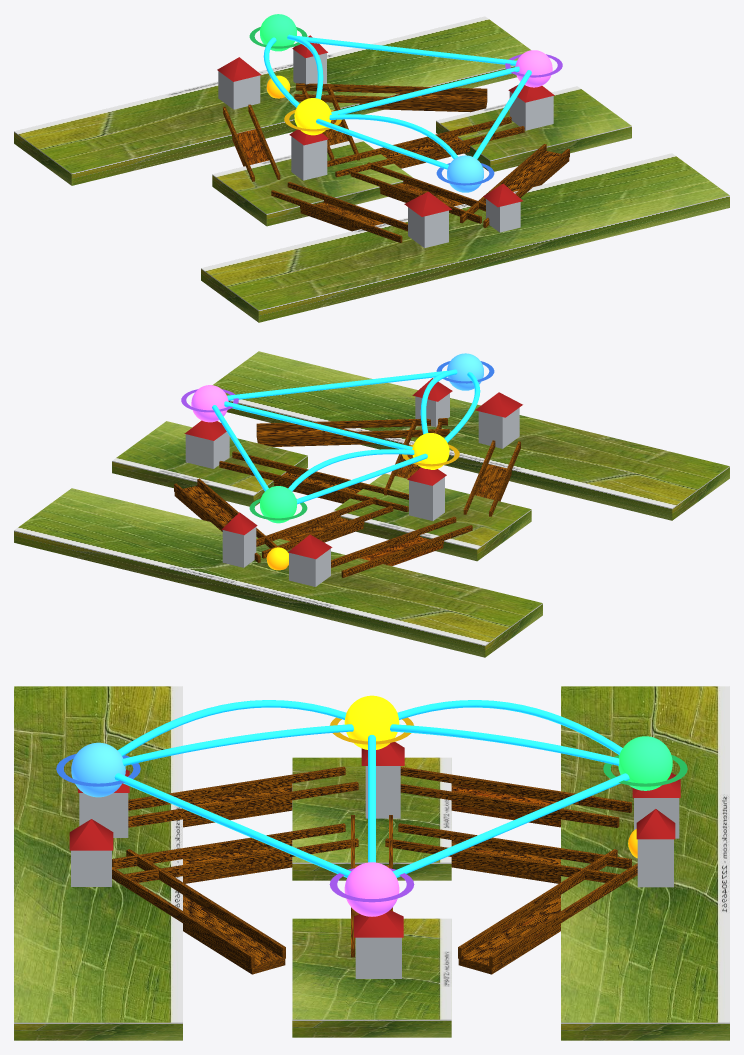
Rendered from asset.glb.
3 views of the same model, one above another, from view 1: azimuth 30°, elevation 25°; view 2: azimuth 150°, elevation 25°; view 3: azimuth 270°, elevation 25° (orthographic). The views are drawn at different scales.
Visible parts, largest first — view 1: 6502ecda-b3d8-4de8-a599-05ddc4f7dd0b, 8dc0e7db-4d52-4c56-aa25-2f4268a89cc4, Graph_Topology_Overlay, fd11e161-8cdc-42b4-93c5-9b531671ba08, 0dd1c9f3-5c8b-45e2-a001-0c6a06e498f4, mesh_26_instance_1, mesh_26_instance_0, mesh_30_instance_1, mesh_30_instance_0, mesh_22_instance_0, mesh_22_instance_1, mesh_24_instance_1 (+8 smaller); view 2: 8dc0e7db-4d52-4c56-aa25-2f4268a89cc4, 6502ecda-b3d8-4de8-a599-05ddc4f7dd0b, Graph_Topology_Overlay, fd11e161-8cdc-42b4-93c5-9b531671ba08, 0dd1c9f3-5c8b-45e2-a001-0c6a06e498f4, mesh_28_instance_0, mesh_30_instance_0, mesh_28_instance_1, mesh_30_instance_1, mesh_18_instance_1, mesh_18_instance_0, mesh_20_instance_0 (+9 smaller); view 3: 6502ecda-b3d8-4de8-a599-05ddc4f7dd0b, 8dc0e7db-4d52-4c56-aa25-2f4268a89cc4, Graph_Topology_Overlay, fd11e161-8cdc-42b4-93c5-9b531671ba08, 0dd1c9f3-5c8b-45e2-a001-0c6a06e498f4, mesh_22_instance_1, mesh_18_instance_0, mesh_24_instance_1, mesh_20_instance_0, mesh_18_instance_1, mesh_24_instance_0, mesh_20_instance_1 (+11 smaller).
Boxes of the visible parts, box(x1,y1,x2,y2) form: 6502ecda-b3d8-4de8-a599-05ddc4f7dd0b: box(201, 153, 729, 322); 8dc0e7db-4d52-4c56-aa25-2f4268a89cc4: box(14, 16, 530, 185); Graph_Topology_Overlay: box(249, 14, 562, 192); fd11e161-8cdc-42b4-93c5-9b531671ba08: box(436, 85, 631, 171); 0dd1c9f3-5c8b-45e2-a001-0c6a06e498f4: box(212, 129, 412, 226); mesh_26_instance_1: box(294, 94, 485, 108); mesh_26_instance_0: box(296, 83, 487, 96); mesh_30_instance_1: box(335, 126, 524, 177); mesh_30_instance_0: box(327, 116, 511, 166); mesh_22_instance_0: box(271, 190, 402, 242); mesh_22_instance_1: box(287, 181, 407, 231); mesh_24_instance_1: box(367, 162, 485, 211); 8dc0e7db-4d52-4c56-aa25-2f4268a89cc4: box(14, 488, 542, 657); 6502ecda-b3d8-4de8-a599-05ddc4f7dd0b: box(212, 351, 729, 520); Graph_Topology_Overlay: box(181, 353, 494, 523); fd11e161-8cdc-42b4-93c5-9b531671ba08: box(112, 420, 307, 506); 0dd1c9f3-5c8b-45e2-a001-0c6a06e498f4: box(330, 467, 531, 561); mesh_28_instance_0: box(258, 429, 449, 443); mesh_30_instance_0: box(219, 461, 408, 512); mesh_28_instance_1: box(256, 418, 447, 431); mesh_30_instance_1: box(232, 451, 408, 499); mesh_18_instance_1: box(341, 525, 472, 577); mesh_18_instance_0: box(331, 516, 456, 567); mesh_20_instance_0: box(256, 497, 376, 546); 6502ecda-b3d8-4de8-a599-05ddc4f7dd0b: box(14, 686, 182, 1040); 8dc0e7db-4d52-4c56-aa25-2f4268a89cc4: box(561, 686, 729, 1040); Graph_Topology_Overlay: box(56, 695, 687, 916); fd11e161-8cdc-42b4-93c5-9b531671ba08: box(292, 910, 451, 1037); 0dd1c9f3-5c8b-45e2-a001-0c6a06e498f4: box(292, 742, 451, 880); mesh_22_instance_1: box(128, 781, 358, 827); mesh_18_instance_0: box(400, 784, 619, 827); mesh_24_instance_1: box(124, 838, 358, 882); mesh_20_instance_0: box(385, 838, 619, 882); mesh_18_instance_1: box(400, 767, 631, 812); mesh_24_instance_0: box(112, 823, 345, 869); mesh_20_instance_1: box(398, 823, 631, 869).
Size of the model in its own units: 16 by 2.97 by 14.4.
27 materials, 9 textured.
